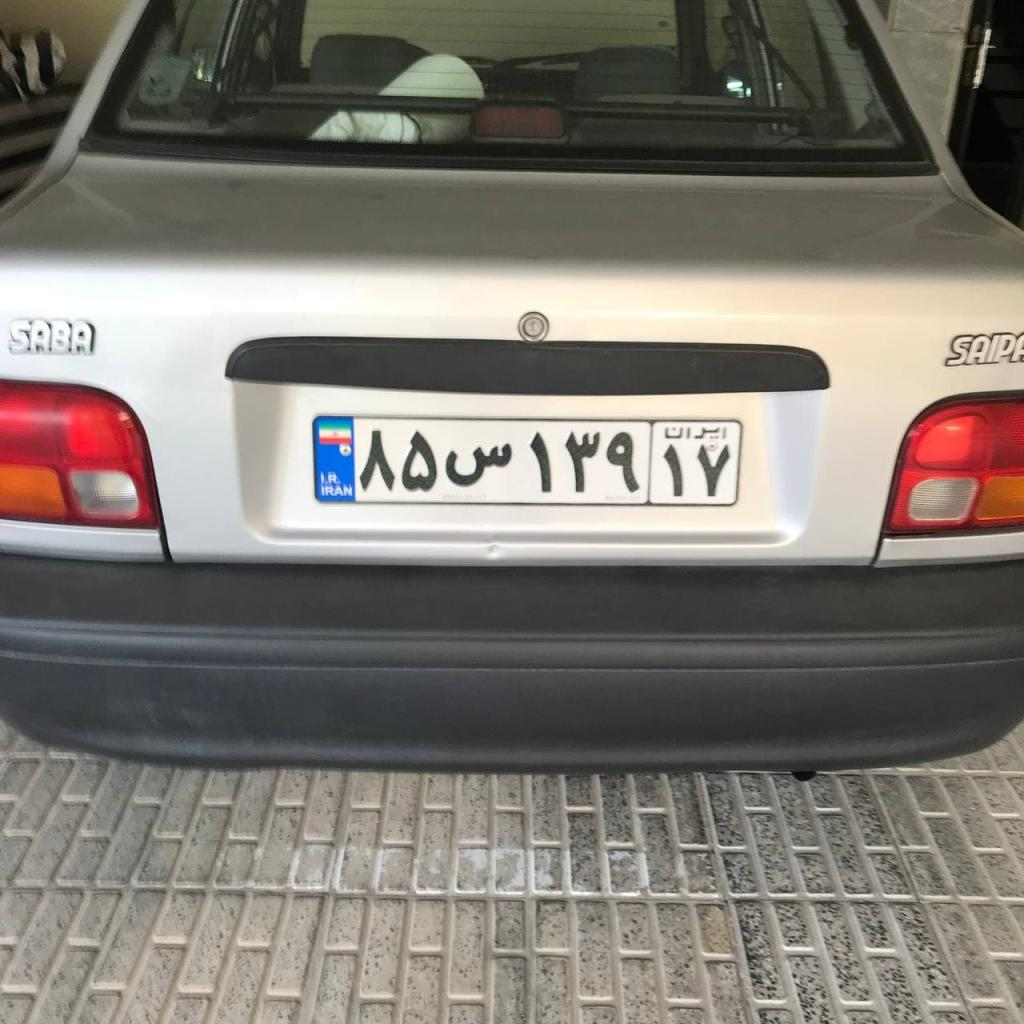Plates: (312, 418, 740, 504)
